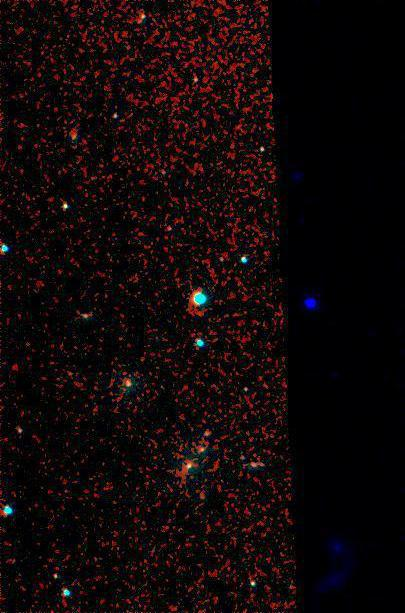star: (112, 367, 142, 397)
